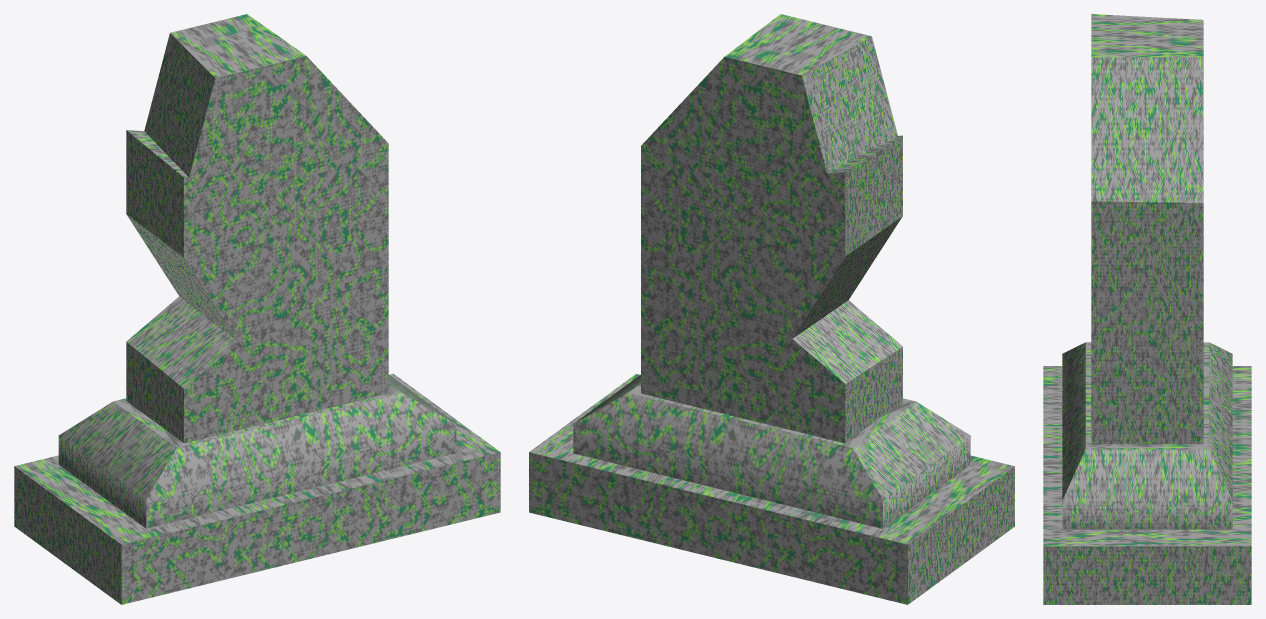
Rendered from Grave2.fbx.
The picture shows the model from 3 angles, left to right: view 1: azimuth 30°, elevation 25°; view 2: azimuth 150°, elevation 25°; view 3: azimuth 270°, elevation 25°; orthographic projection. The views are drawn at different scales.
Visible parts, largest first — view 1: Cube; view 2: Cube; view 3: Cube.
Part boxes in pixels (box(x1,y1,x2,y2)): Cube: box(14, 14, 500, 604); Cube: box(529, 14, 1014, 604); Cube: box(1043, 14, 1251, 604).
Size of the model in its own units: 0.3827 by 0.1874 by 0.4629.
Materials: 1 (1 with a texture image).
